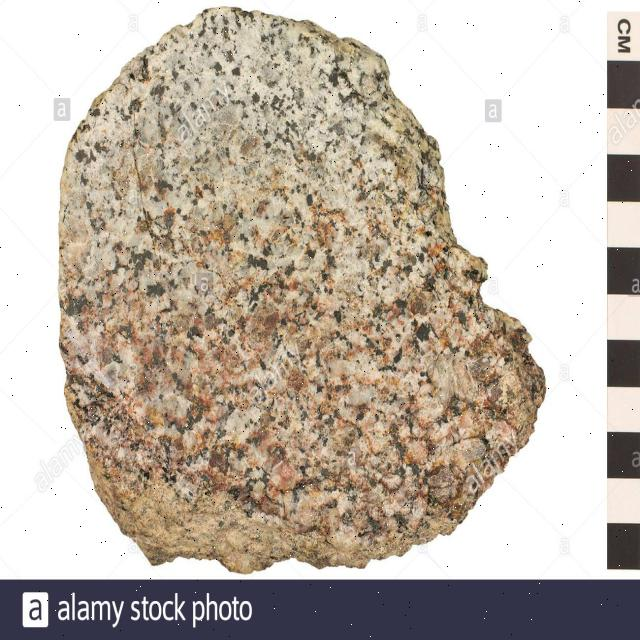Igneous: (56, 7, 551, 573)
